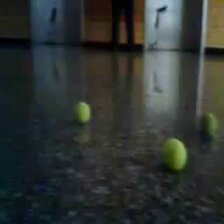tennis: (160, 138, 189, 171), (73, 102, 92, 124), (199, 113, 218, 135)
